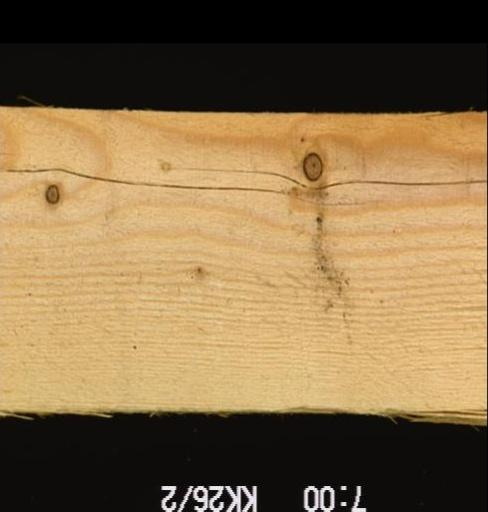dry_knot: (301, 151, 324, 183), (43, 182, 61, 206)
small_knot: (183, 256, 212, 284)
split: (170, 159, 485, 196), (3, 163, 281, 196)
